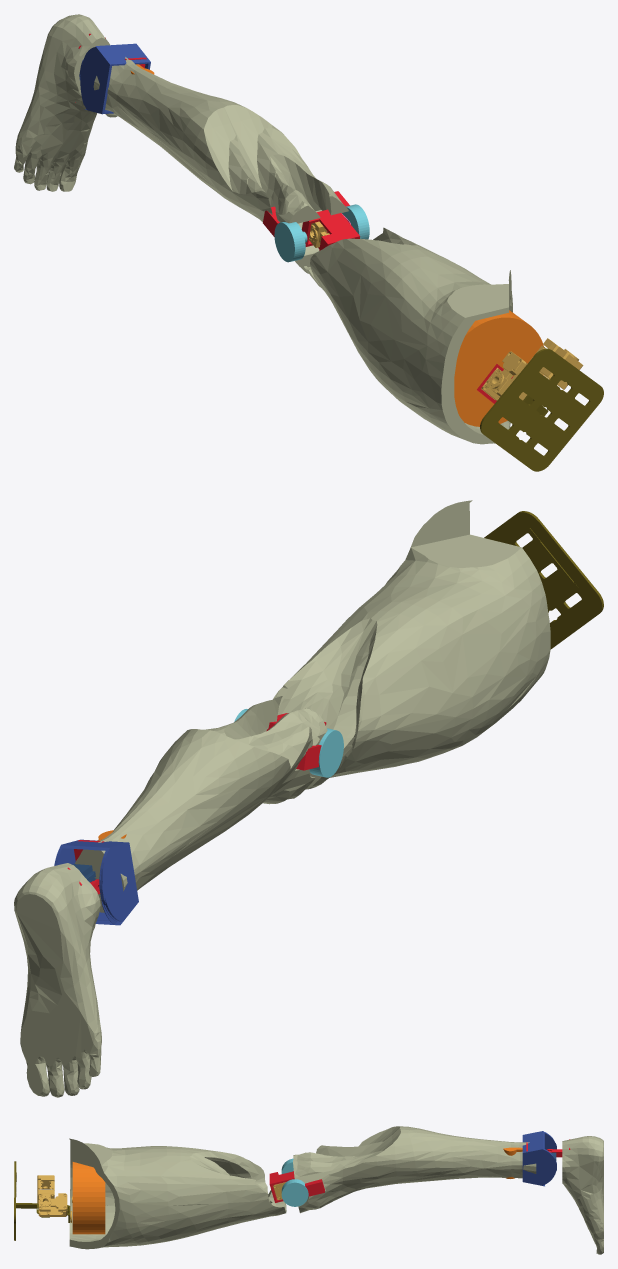
The model's file is tinker.obj.
3 renders of one model, top to bottom at view 1: azimuth 30°, elevation 25°; view 2: azimuth 150°, elevation 25°; view 3: azimuth 270°, elevation 25°, orthographic. The views are drawn at different scales.
Parts seen in each view (by area): view 1: obj_10, obj_2, obj_0, obj_8, obj_1, obj_6; view 2: obj_10, obj_2, obj_0, obj_8, obj_1; view 3: obj_10, obj_2, obj_0, obj_1, obj_5, obj_6, obj_8.
Boxes of the visible parts, bbox=[...] form: obj_10: bbox=[304, 227, 543, 444]; obj_2: bbox=[75, 33, 348, 273]; obj_0: bbox=[14, 14, 109, 191]; obj_8: bbox=[480, 348, 603, 471]; obj_1: bbox=[263, 191, 369, 262]; obj_6: bbox=[485, 351, 527, 400]; obj_10: bbox=[273, 500, 550, 789]; obj_2: bbox=[54, 696, 327, 925]; obj_0: bbox=[14, 863, 101, 1097]; obj_8: bbox=[484, 511, 603, 649]; obj_1: bbox=[234, 709, 343, 777]; obj_10: bbox=[69, 1138, 286, 1249]; obj_2: bbox=[293, 1126, 570, 1213]; obj_0: bbox=[562, 1136, 603, 1254]; obj_1: bbox=[269, 1158, 324, 1206]; obj_5: bbox=[38, 1193, 67, 1216]; obj_6: bbox=[37, 1175, 54, 1203]; obj_8: bbox=[14, 1161, 38, 1240].
Bounding box in the file's own units: 181 × 233 × 964.
